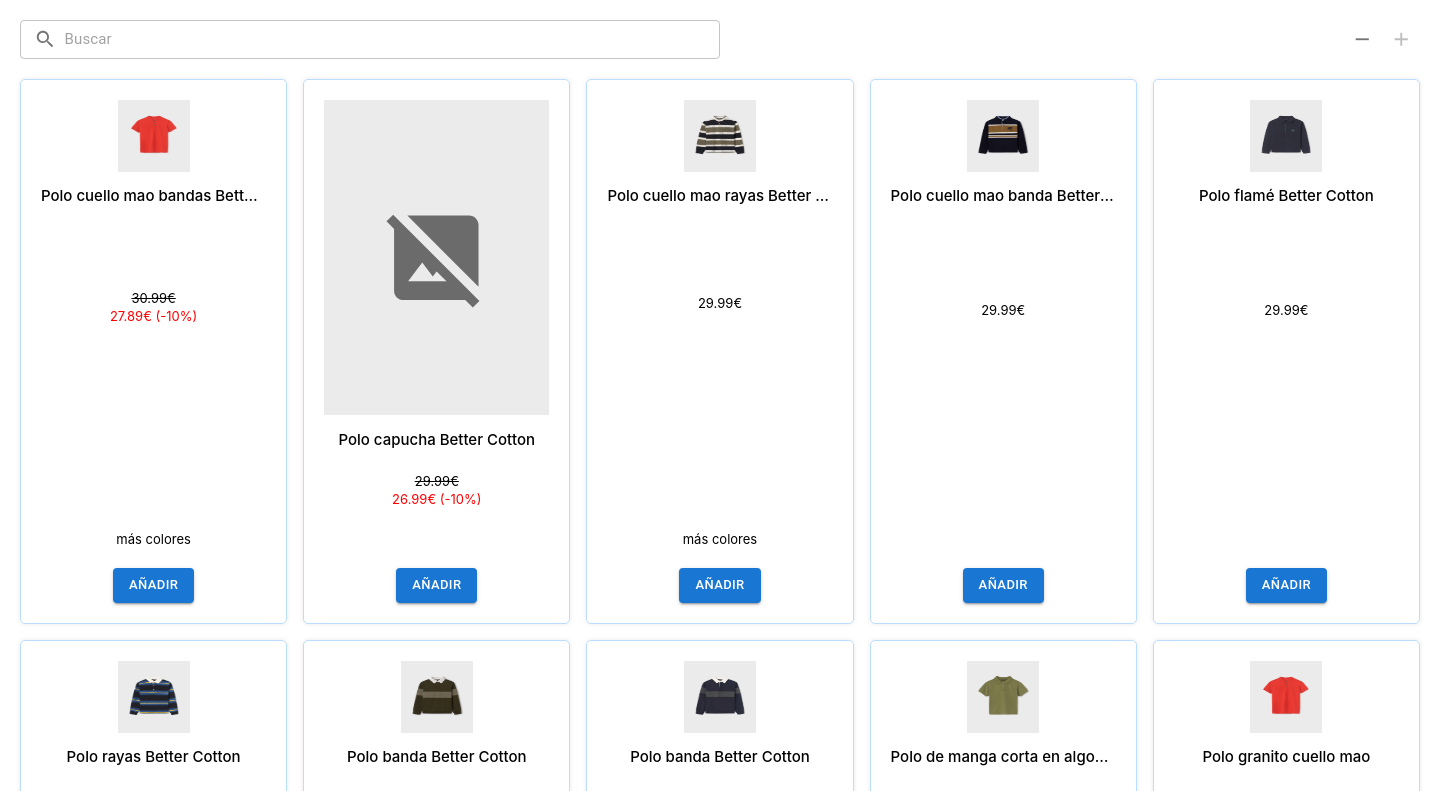
Test: HomePage › when the user search 'test' and not exist results
In the field with placeholder "Buscar": (392, 39) top-left (64, 20), bottom-right (720, 59), type "test"
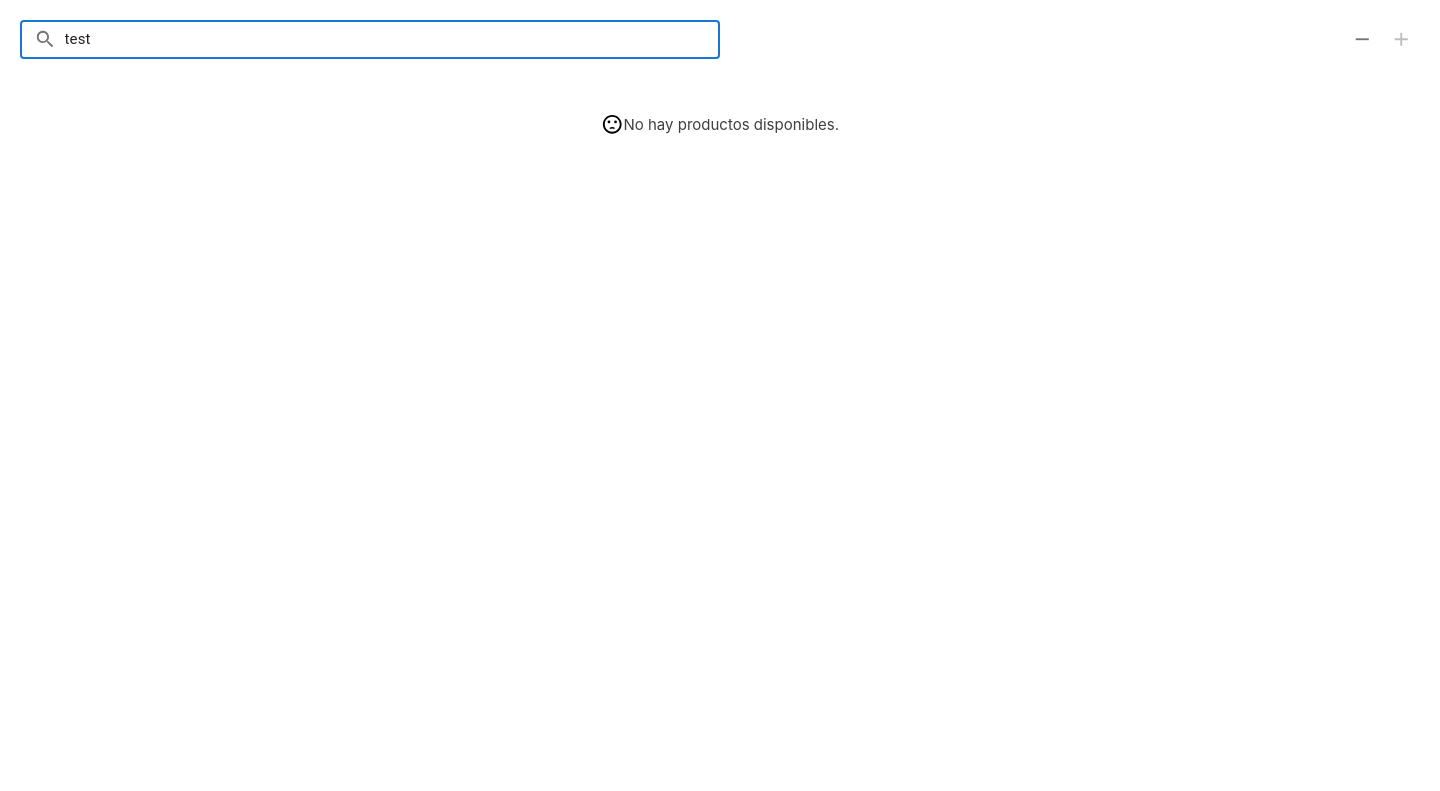
expect the element with test id "empty-message" is shown: met, box top-left (601, 113), bottom-right (839, 136)
